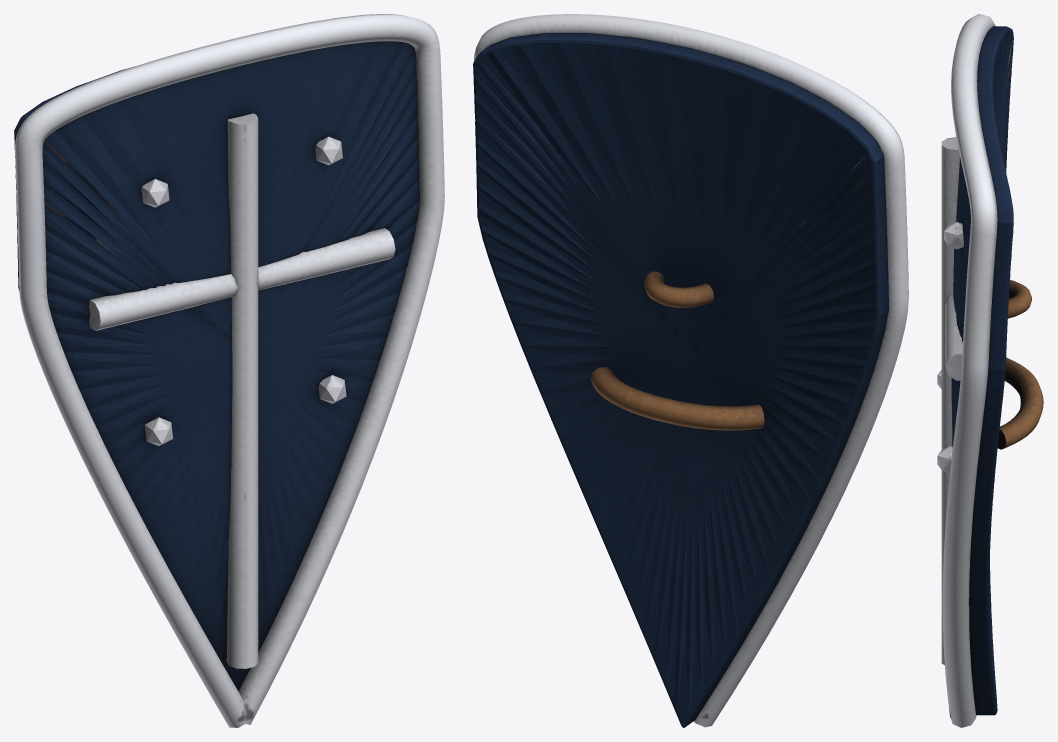
Rendered from arma_escudo_vespera.glb.
The picture shows the model from 3 angles, left to right: view 1: azimuth 30°, elevation 25°; view 2: azimuth 150°, elevation 25°; view 3: azimuth 270°, elevation 25°; orthographic projection. The views are drawn at different scales.
Parts seen in each view (by area): view 1: arma_escudo_vespera; view 2: arma_escudo_vespera; view 3: arma_escudo_vespera.
Boxes of the visible parts, x1,y1,x2,y2 form: arma_escudo_vespera: (14, 14, 444, 727); arma_escudo_vespera: (473, 14, 908, 727); arma_escudo_vespera: (937, 14, 1043, 727).
Size of the model in its own units: 0.4879 by 0.7546 by 0.1116.
Materials: 1 (1 with a texture image).
